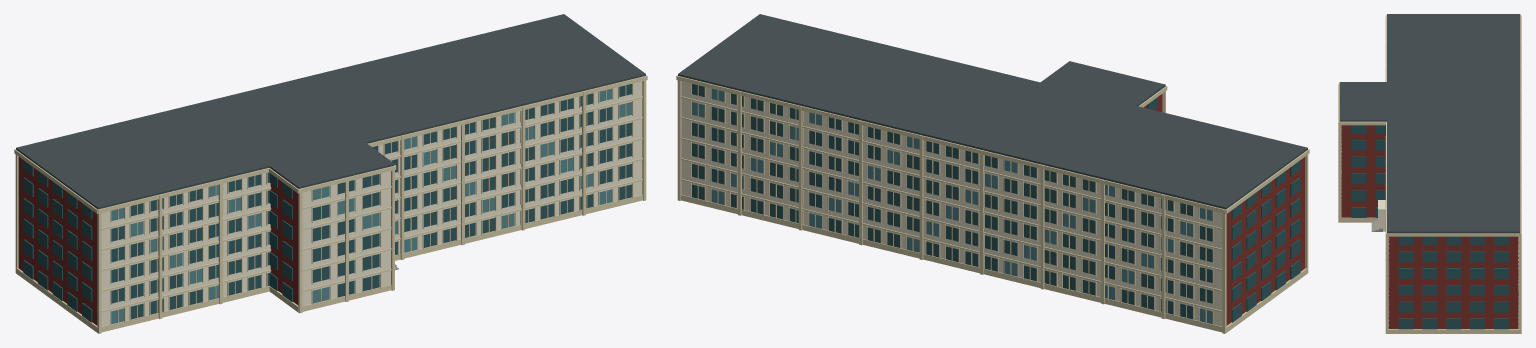
The picture shows the model from 3 angles, left to right: view 1: azimuth 30°, elevation 25°; view 2: azimuth 150°, elevation 25°; view 3: azimuth 270°, elevation 25°; orthographic projection. The views are drawn at different scales.
Visible parts, largest first — view 1: MainBlock_Roof, MainBlock_Light_Fascia, MainBlock_WindowGlass, MainBlock_WindowFrames, CentralStair_Light_Fascia, MainBlock_FloorBands, MainBlock_Structure, CentralStair_Roof, MainBlock_Pilasters, MainBlock_SideWindows, CentralStair_WindowGlass, MainBlock_Plinth (+8 smaller); view 2: MainBlock_Roof, MainBlock_Light_Fascia, MainBlock_WindowGlass, MainBlock_WindowFrames, MainBlock_FloorBands, MainBlock_Pilasters, MainBlock_Structure, CentralStair_Roof, MainBlock_SideWindows, MainBlock_Plinth, MainBlock_Cornice; view 3: MainBlock_Roof, MainBlock_Structure, MainBlock_SideWindows, CentralStair_Roof, CentralStair_Structure, CentralStair_SideWindows, MainBlock_Cornice, MainBlock_Pilasters, MainBlock_Plinth, CentralStair_Pilasters, CentralStair_Cornice, MainBlock_Light_Fascia (+2 smaller).
Boxes of the visible parts, bbox=[...] form: MainBlock_Roof: bbox=[16, 14, 645, 209]; MainBlock_Light_Fascia: bbox=[18, 81, 642, 326]; MainBlock_WindowGlass: bbox=[111, 84, 631, 324]; MainBlock_WindowFrames: bbox=[110, 83, 633, 325]; CentralStair_Light_Fascia: bbox=[302, 171, 390, 305]; MainBlock_FloorBands: bbox=[101, 96, 642, 312]; MainBlock_Structure: bbox=[18, 157, 97, 325]; CentralStair_Roof: bbox=[245, 126, 394, 188]; MainBlock_Pilasters: bbox=[15, 76, 646, 333]; MainBlock_SideWindows: bbox=[23, 160, 92, 322]; CentralStair_WindowGlass: bbox=[313, 174, 379, 303]; MainBlock_Plinth: bbox=[16, 194, 642, 332]; MainBlock_Roof: bbox=[678, 14, 1307, 209]; MainBlock_Light_Fascia: bbox=[681, 81, 1305, 326]; MainBlock_WindowGlass: bbox=[692, 84, 1212, 324]; MainBlock_WindowFrames: bbox=[690, 83, 1213, 325]; MainBlock_FloorBands: bbox=[681, 96, 1222, 312]; MainBlock_Pilasters: bbox=[677, 76, 1308, 333]; MainBlock_Structure: bbox=[1226, 157, 1305, 325]; CentralStair_Roof: bbox=[1016, 61, 1165, 123]; MainBlock_SideWindows: bbox=[1231, 160, 1300, 322]; MainBlock_Plinth: bbox=[681, 194, 1307, 332]; MainBlock_Cornice: bbox=[676, 75, 1309, 213]; MainBlock_Roof: bbox=[1387, 14, 1520, 233]; MainBlock_Structure: bbox=[1388, 236, 1518, 328]; MainBlock_SideWindows: bbox=[1398, 236, 1508, 329]; CentralStair_Roof: bbox=[1339, 82, 1427, 121]; CentralStair_Structure: bbox=[1341, 125, 1385, 217]; CentralStair_SideWindows: bbox=[1351, 125, 1385, 217]; MainBlock_Cornice: bbox=[1386, 15, 1521, 236]; MainBlock_Pilasters: bbox=[1385, 16, 1521, 333]; MainBlock_Plinth: bbox=[1387, 329, 1520, 333]; CentralStair_Pilasters: bbox=[1338, 84, 1340, 222]; CentralStair_Cornice: bbox=[1338, 83, 1386, 125]; MainBlock_Light_Fascia: bbox=[1388, 236, 1519, 328].
Bounding box in the file's own units: 94.9 × 20.73 × 33.65.
